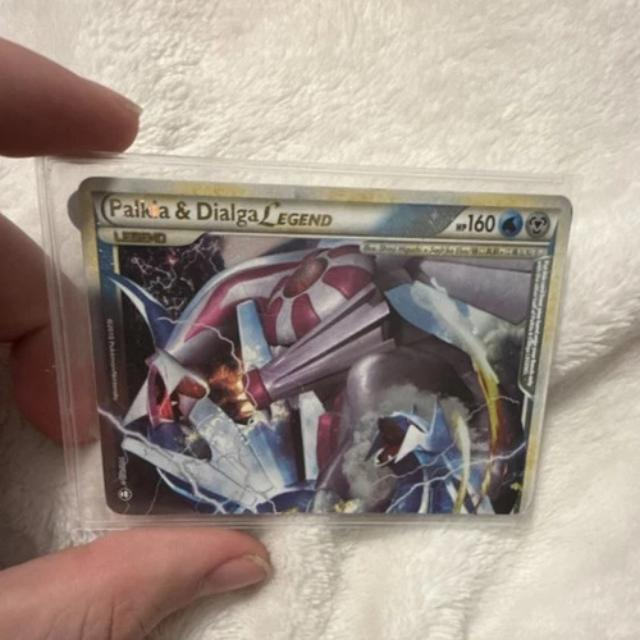Card: (75, 175, 576, 519)
Name: (102, 193, 343, 236)
